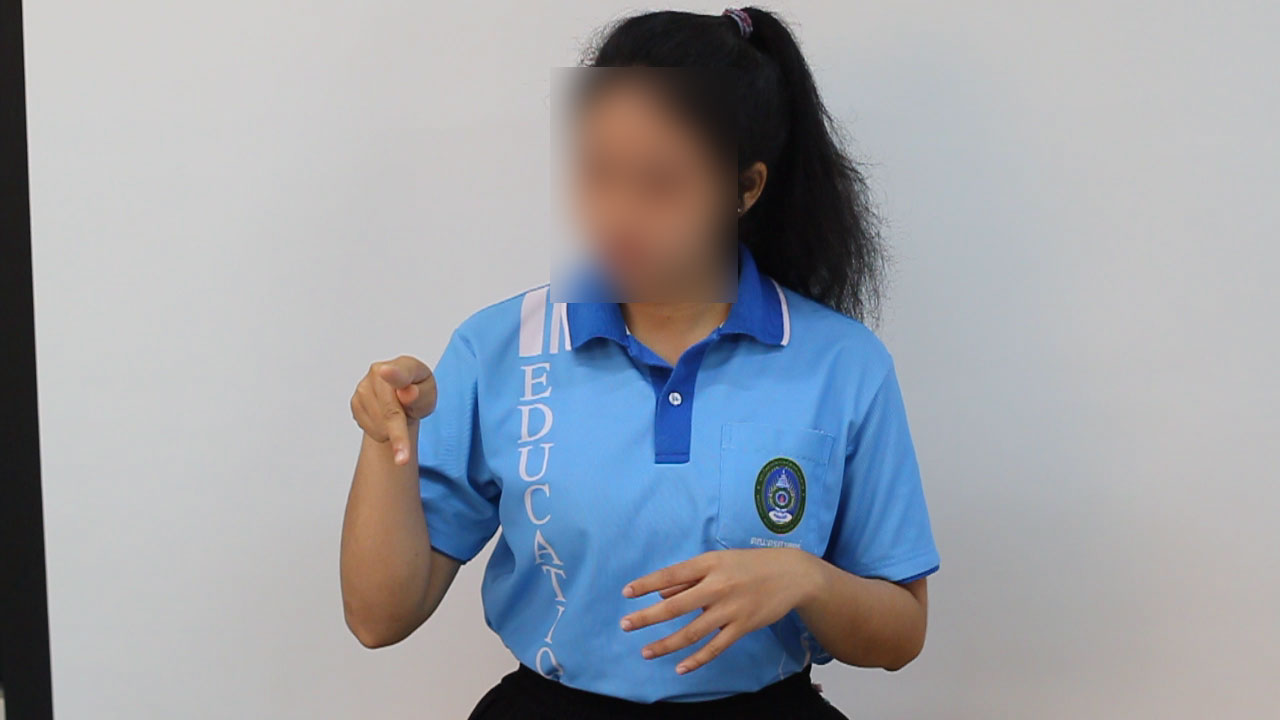por: (327, 348, 456, 481)
